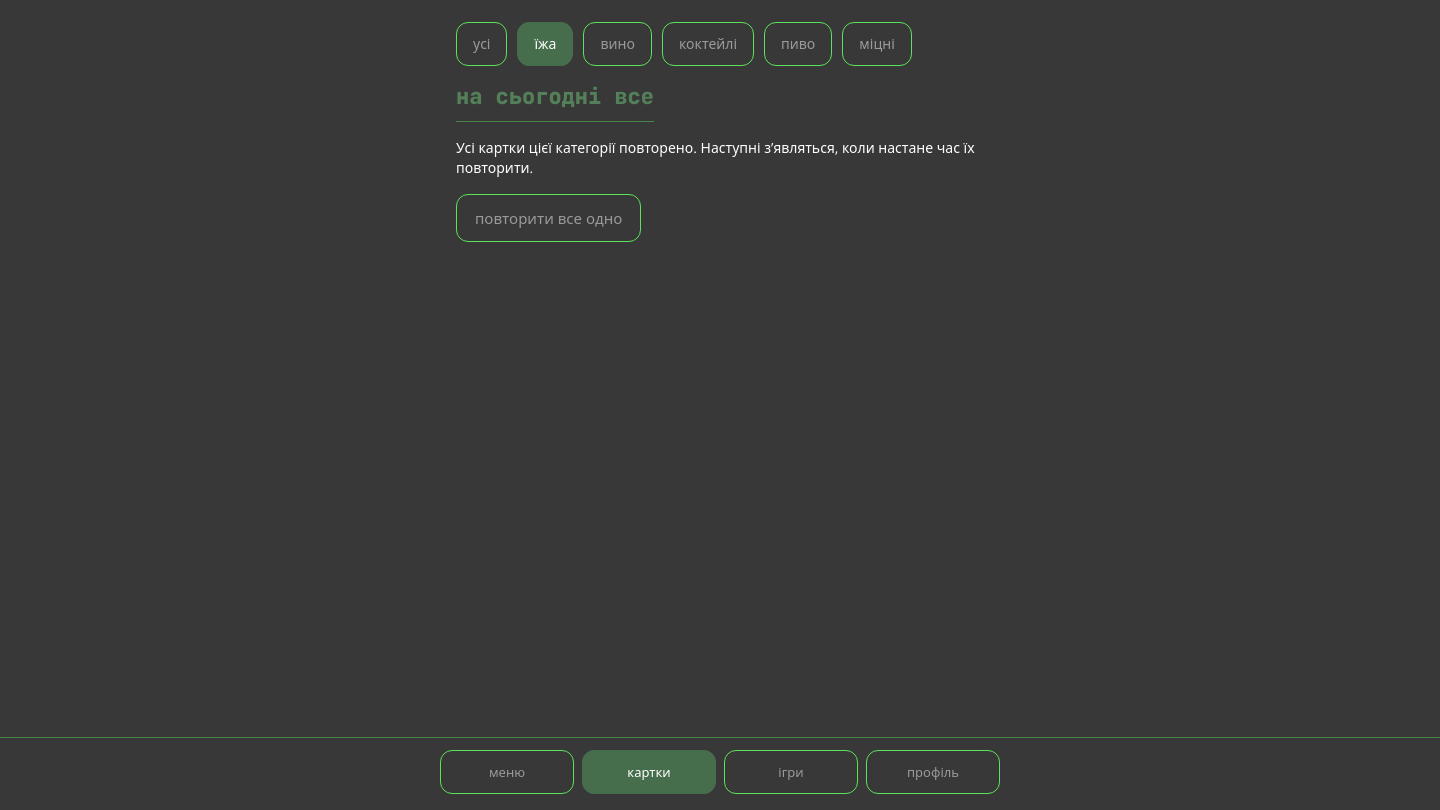
Scenario: CardsView (mobile) › says when everything is learned for today, and can practise anyway
Expected: the heading "на сьогодні все" is shown, [456,82,654,122]
Click the button "повторити все одно": [549, 218] box [456,194,641,242]
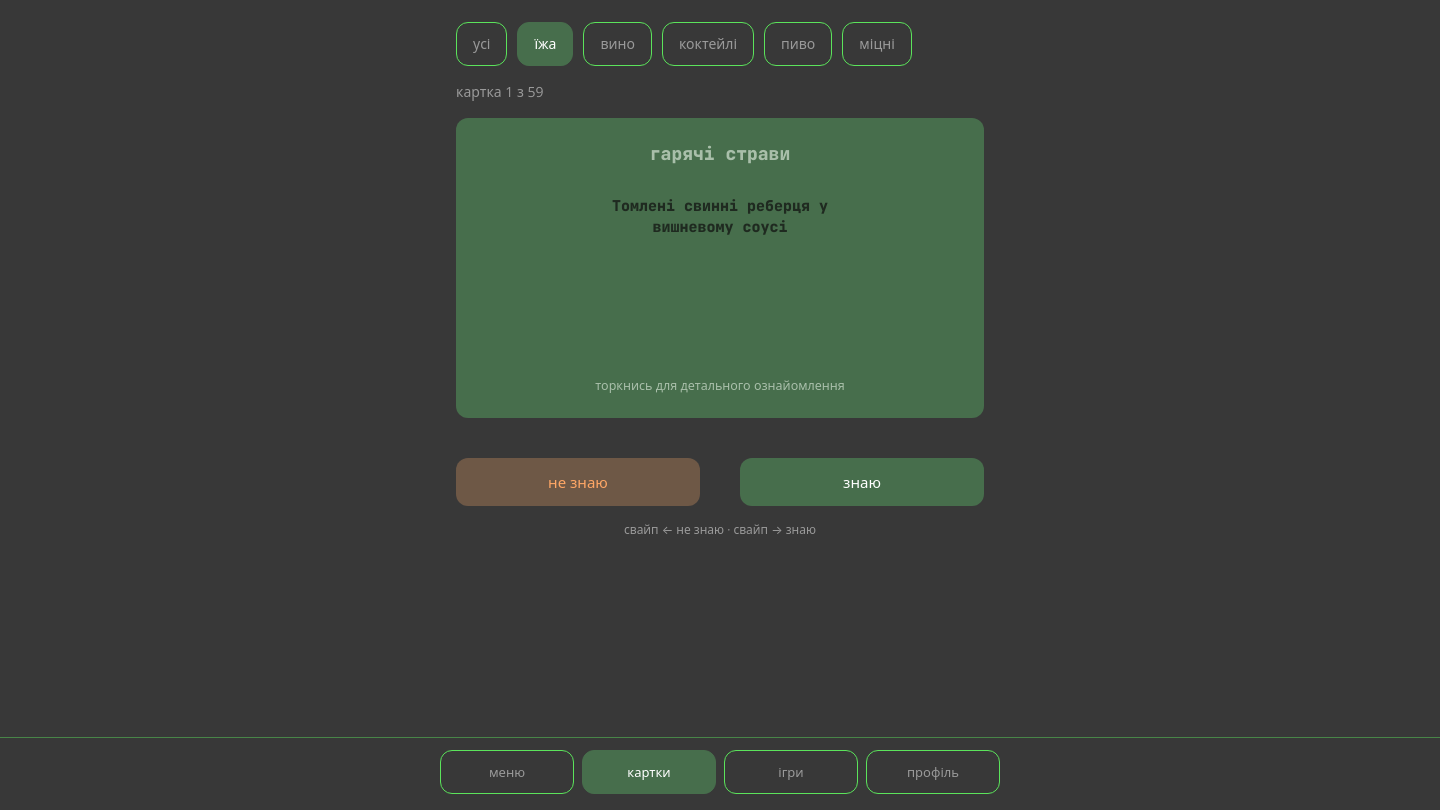
Now the text "картка 1 з 59" is shown, box [456,82,544,101]
